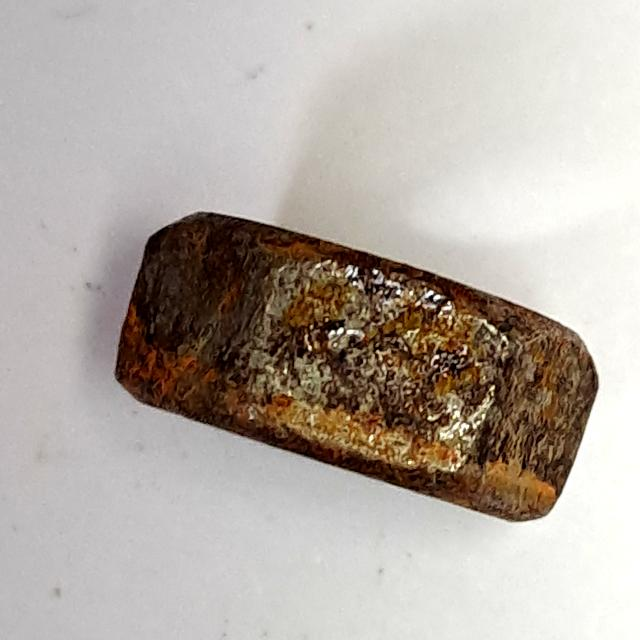Side_Rust: (92, 196, 609, 534)
